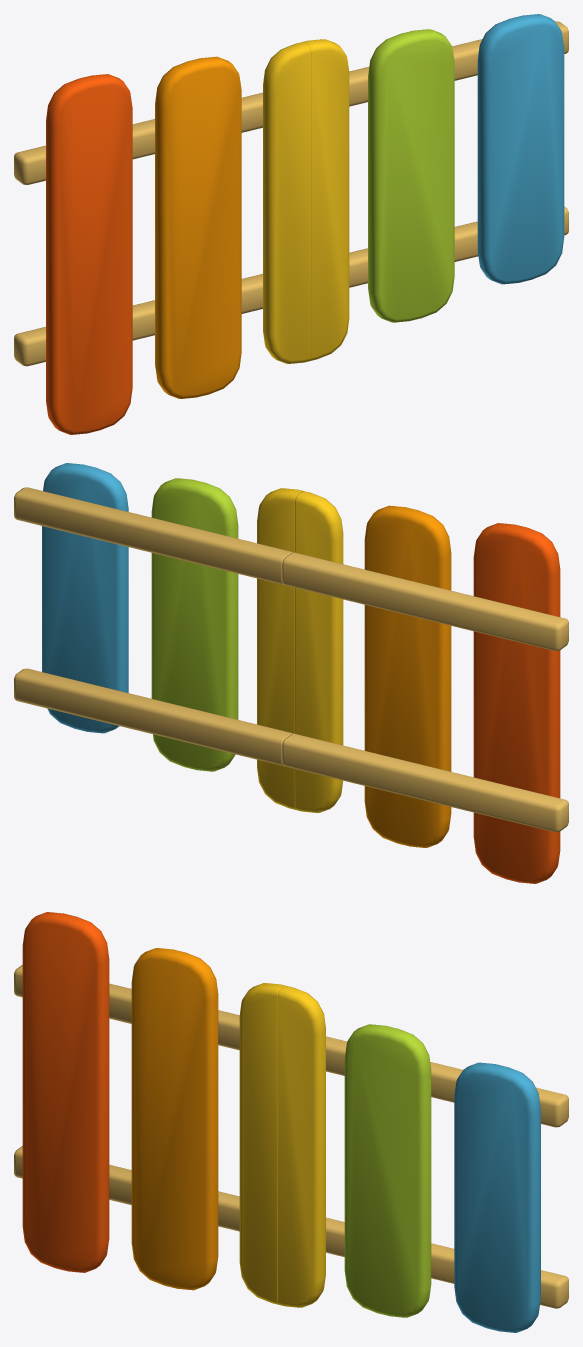
Rendered from SM_Xylophone_01a.fbx.
3 views of the same model, one above another, from view 1: azimuth 30°, elevation 25°; view 2: azimuth 150°, elevation 25°; view 3: azimuth 330°, elevation 25° (orthographic).
Visible parts, largest first — view 1: Xylophone_02, Xylophone_01; view 2: Xylophone_02, Xylophone_01; view 3: Xylophone_02, Xylophone_01.
Part boxes in pixels (bbox=[...]): Xylophone_02: bbox=[14, 42, 311, 434]; Xylophone_01: bbox=[302, 14, 568, 360]; Xylophone_02: bbox=[282, 491, 568, 883]; Xylophone_01: bbox=[14, 463, 302, 809]; Xylophone_02: bbox=[14, 912, 286, 1304]; Xylophone_01: bbox=[277, 986, 568, 1332].
Bounding box in the file's own units: 41.16 × 25.3 × 3.
